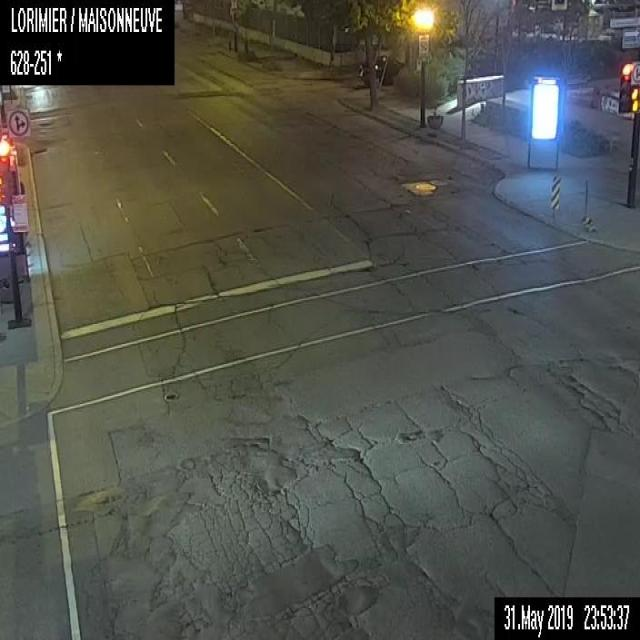vehicle: (357, 54, 404, 85)
